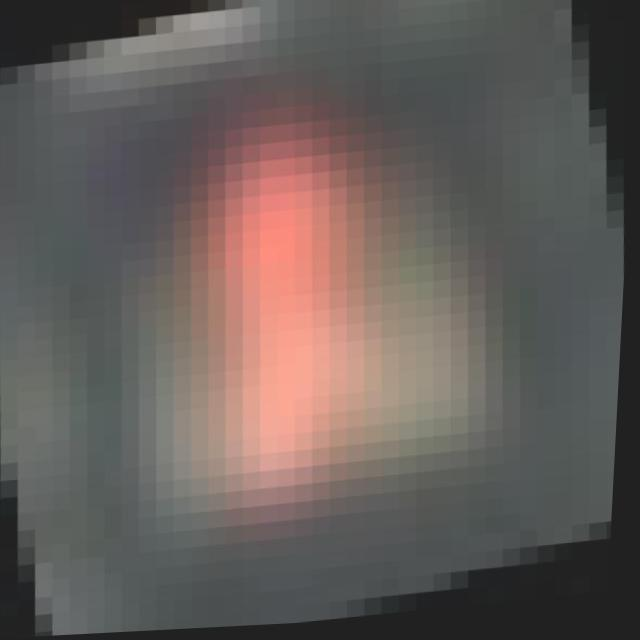red_light: (31, 3, 530, 564)
